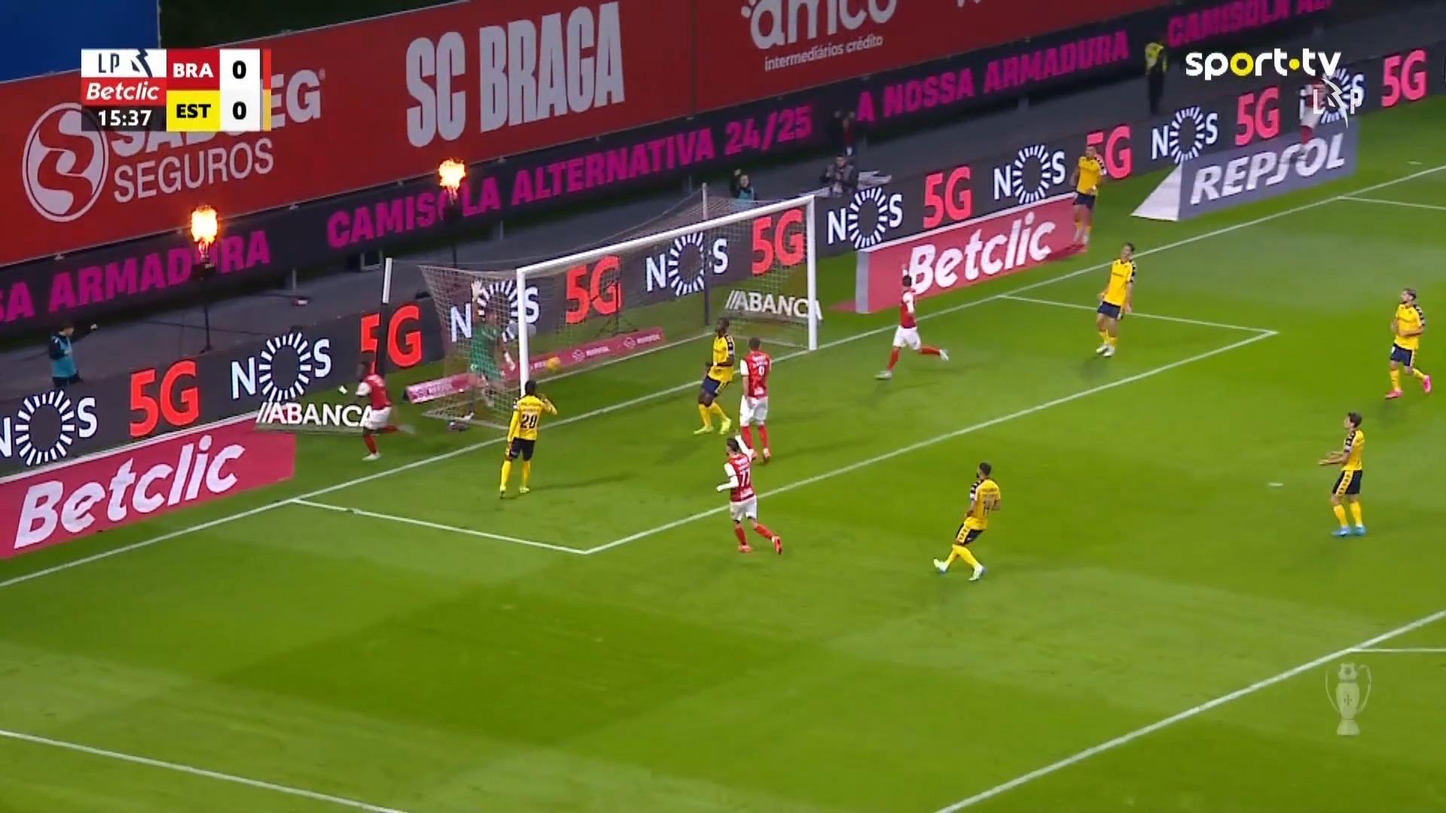ball: (545, 356, 560, 372)
goalkeeper: (464, 279, 515, 410)
player: (932, 461, 1002, 581), (873, 271, 949, 379), (715, 434, 782, 555), (497, 378, 557, 499), (1317, 410, 1366, 536), (350, 358, 404, 461), (1383, 286, 1432, 399), (691, 315, 735, 435), (1094, 241, 1136, 357), (736, 336, 772, 463), (1068, 144, 1107, 246)
